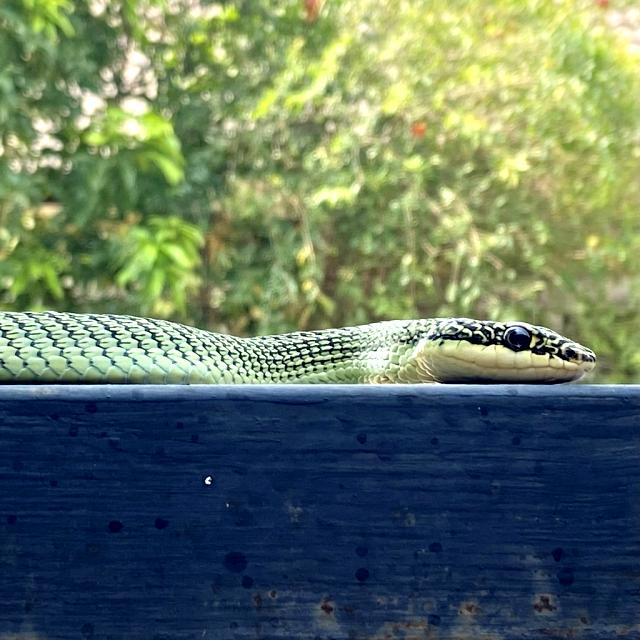Chrysopelea ornata: (0, 312, 595, 383)
